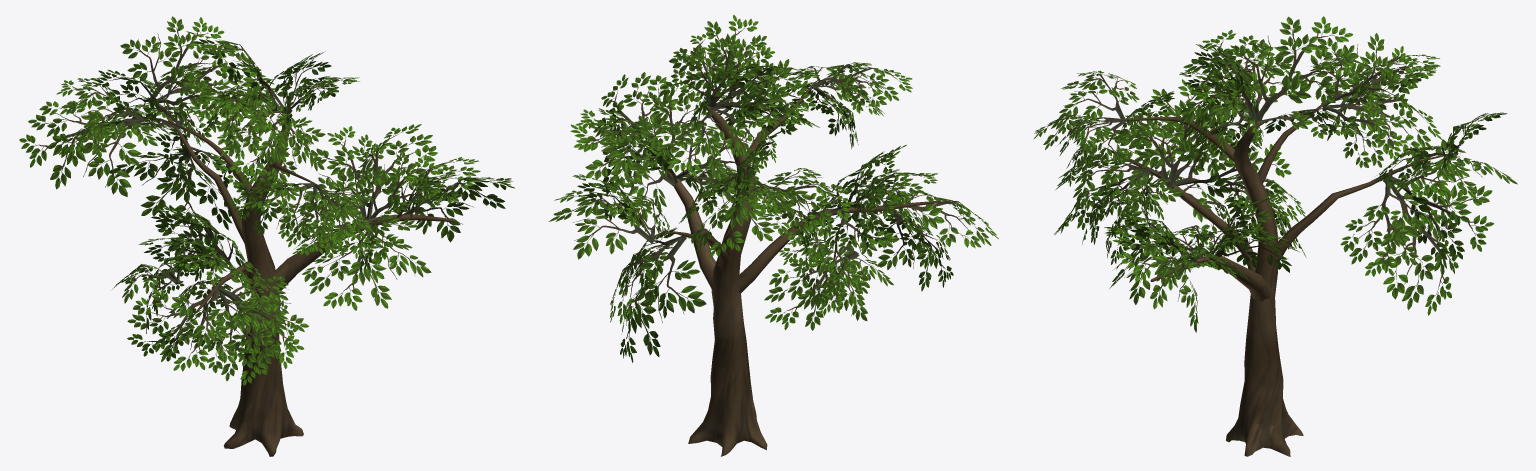
File: Tree01_02.fbx
3 renders of one model, left to right at view 1: azimuth 30°, elevation 25°; view 2: azimuth 150°, elevation 25°; view 3: azimuth 270°, elevation 25°, orthographic. The views are drawn at different scales.
Parts seen in each view (by area): view 1: Group14760, Group14757, trunk_low, Group14759, Group14752, Group14756, Group14751, Group14755, Group14761, Group14750, Group14763, branches_low (+3 smaller); view 2: trunk_low, Group14763, Group14757, Group14761, Group14760, Group14762, Group14750, Group14754, Group14753, Group14756, Group14751, Group14759 (+3 smaller); view 3: Group14757, Group14750, trunk_low, Group14761, Group14753, Group14759, Group14760, branches_low, Group14754, Group14751, Group14763, Group14756 (+3 smaller).
Boxes of the visible parts, bbox=[...] form: Group14760: bbox=[127, 262, 308, 385]; Group14757: bbox=[183, 31, 324, 186]; trunk_low: bbox=[224, 114, 303, 456]; Group14759: bbox=[228, 168, 373, 258]; Group14752: bbox=[19, 78, 157, 196]; Group14756: bbox=[303, 124, 445, 221]; Group14751: bbox=[120, 16, 274, 138]; Group14755: bbox=[292, 197, 431, 310]; Group14761: bbox=[138, 203, 260, 318]; Group14750: bbox=[109, 94, 245, 233]; Group14763: bbox=[226, 51, 359, 190]; branches_low: bbox=[144, 96, 454, 314]; trunk_low: bbox=[688, 106, 767, 456]; Group14763: bbox=[658, 15, 815, 167]; Group14757: bbox=[649, 64, 821, 180]; Group14761: bbox=[800, 144, 937, 303]; Group14760: bbox=[817, 184, 998, 291]; Group14762: bbox=[764, 237, 893, 330]; Group14750: bbox=[610, 227, 706, 362]; Group14754: bbox=[575, 72, 707, 194]; Group14753: bbox=[679, 127, 814, 257]; Group14756: bbox=[570, 117, 707, 226]; Group14751: bbox=[549, 174, 669, 259]; Group14759: bbox=[770, 62, 912, 149]; Group14757: bbox=[1180, 16, 1366, 168]; Group14750: bbox=[1340, 136, 1493, 315]; trunk_low: bbox=[1226, 121, 1303, 456]; Group14761: bbox=[1103, 79, 1291, 254]; Group14753: bbox=[1314, 33, 1441, 167]; Group14759: bbox=[1034, 70, 1174, 186]; Group14760: bbox=[1054, 143, 1183, 264]; branches_low: bbox=[1103, 96, 1460, 302]; Group14754: bbox=[1112, 212, 1250, 332]; Group14751: bbox=[1376, 112, 1517, 198]; Group14763: bbox=[1179, 44, 1263, 155]; Group14756: bbox=[1174, 192, 1300, 275].
Bounding box in the file's own units: 900 × 922 × 993.
